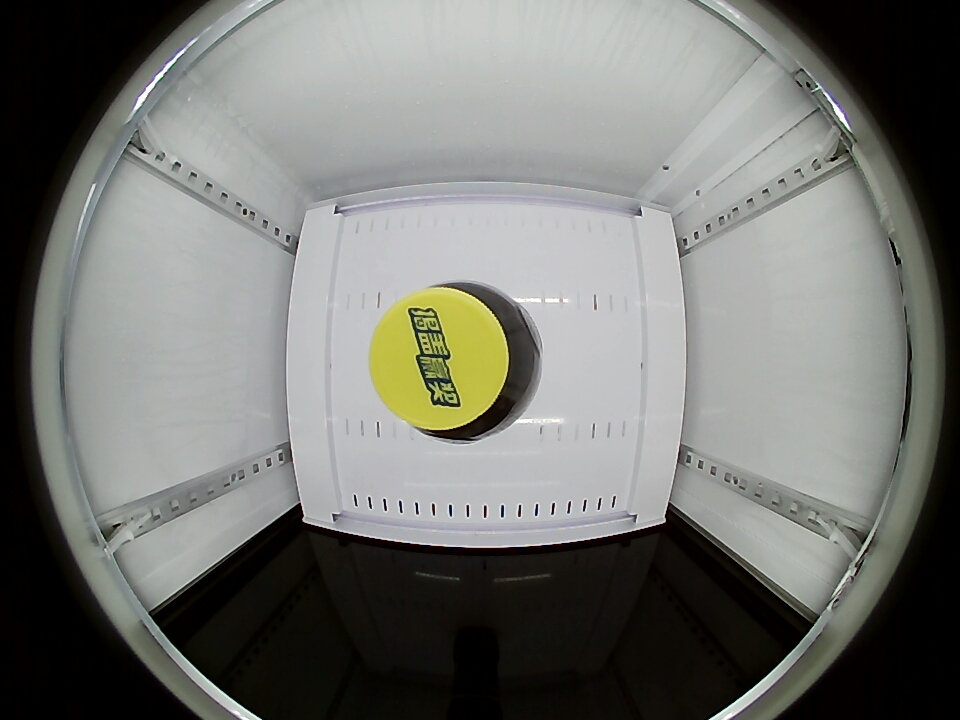baishikele: (368, 283, 541, 443)
